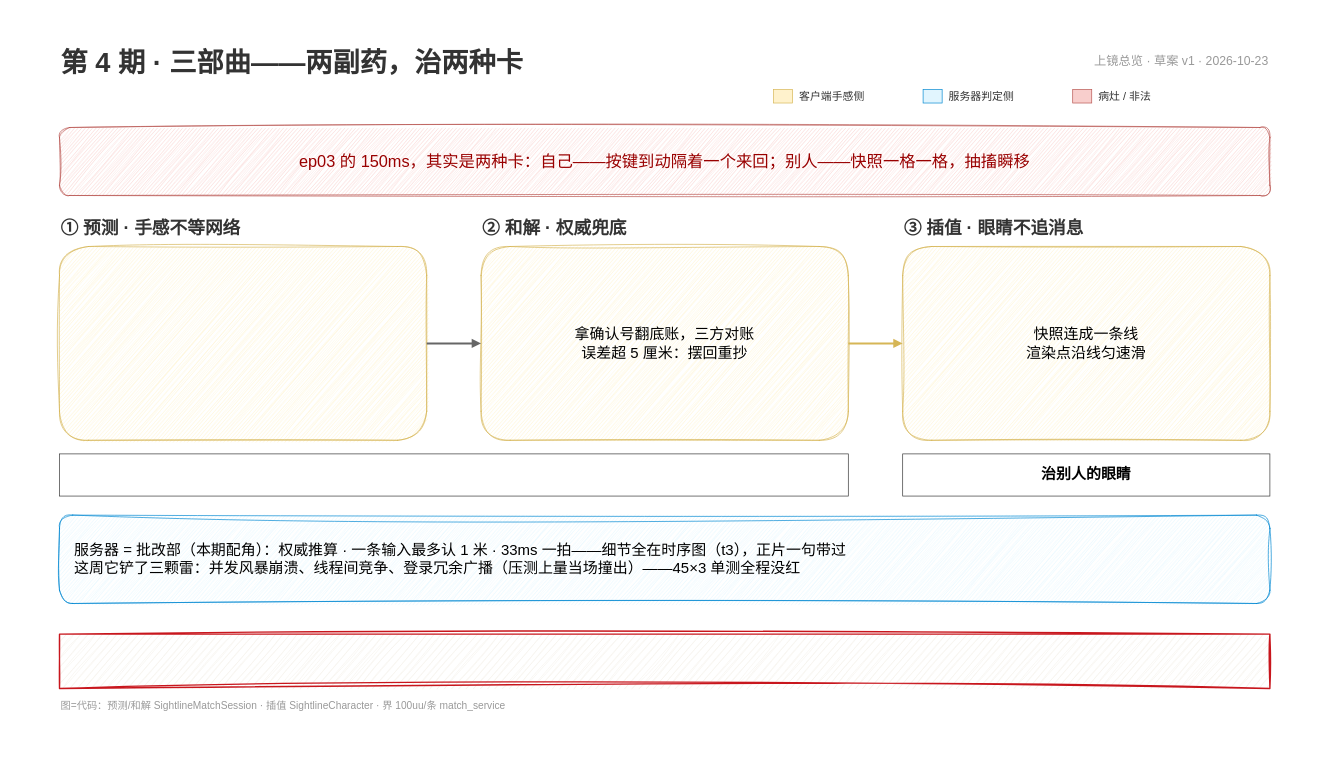
Some shapes in this 1329 by 758 pixel diagram are drawn without their labels. The centre of each missing label's shape, as x and y in pixels:
"手感不等网络，权威批改兑底，眼睛不追消息——三部曲，一期交齐" belongs at [664,661].
"按键当场动，这一步不等任何人 输入照发——账，先记下" belongs at [243,343].
"治自己的手感——同一条输入的两段旅程" belongs at [453,474].
